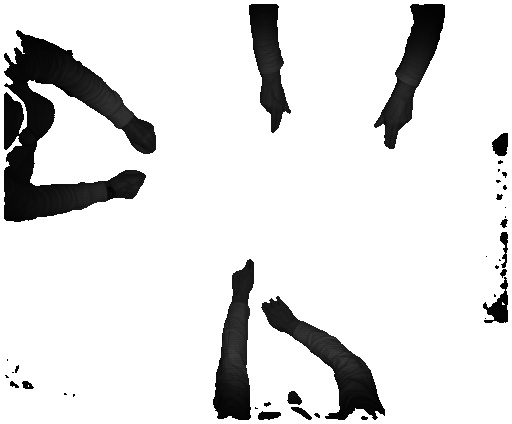fist: (129, 120, 159, 159), (116, 169, 151, 199)
hand: (371, 101, 415, 151), (256, 85, 295, 135), (224, 256, 258, 299), (261, 296, 297, 331)
